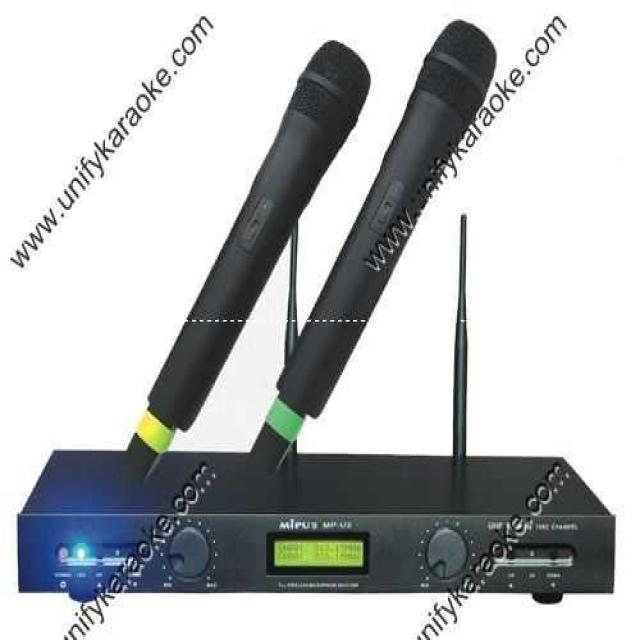microphone: (254, 23, 496, 474), (124, 41, 363, 479)
